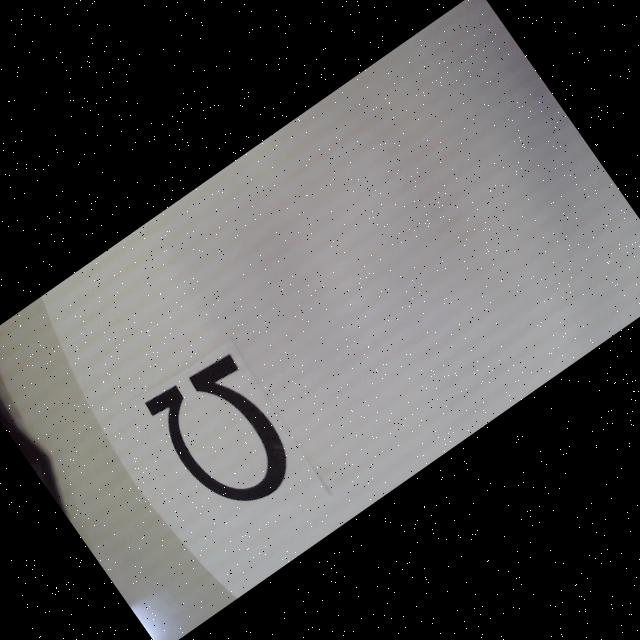OMEGA: (140, 345, 310, 526)
